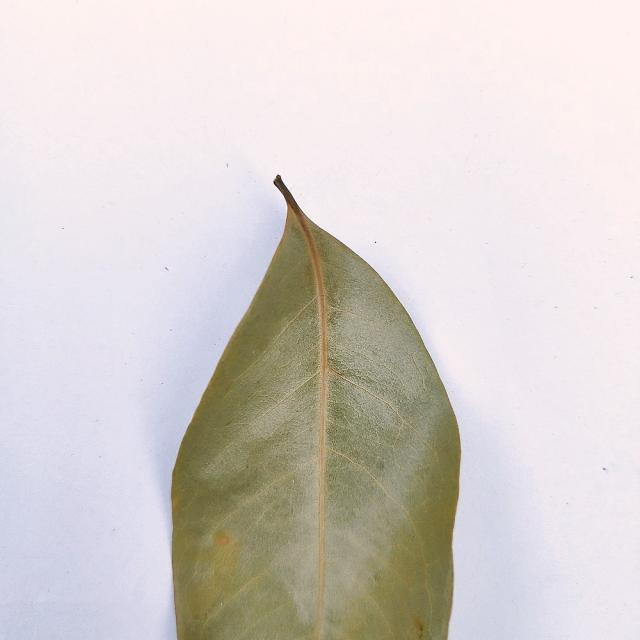Dry_Leaf-Lychee: (168, 177, 461, 639)
